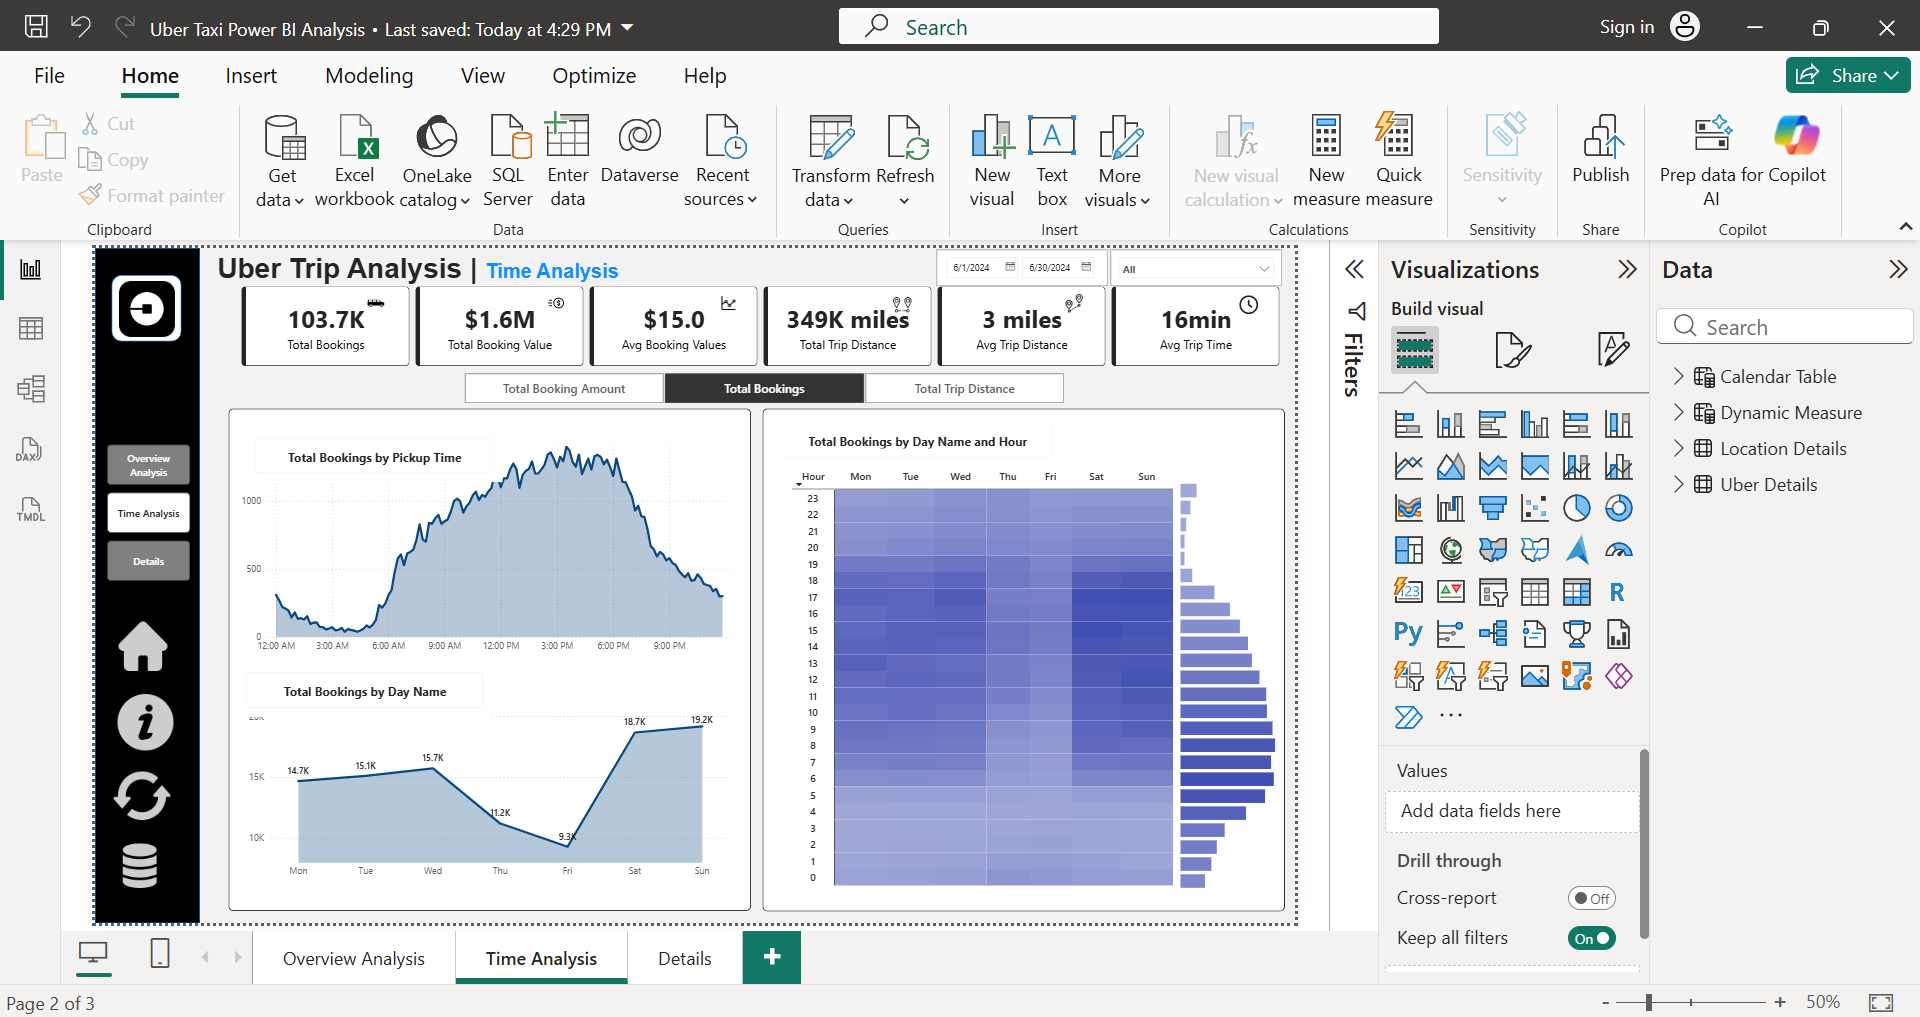

The dashboard page shown, as its layout file describes it:
{"tool":"powerbi","page":{"name":"Time Analysis","canvas":[1600,900],"ordinal":1},"visuals":[{"type":"shape","box":[0,0,140,900.3],"z":0},{"type":"textbox","box":[159,0,767.3,68.8],"z":1000},{"type":"cardVisual","fields":{"Data":["Uber Details.Total Bookings","Uber Details.Total Booking Amount","Uber Details.Avg Booking Amount","Uber Details.Total Trip Distance","Uber Details.Avg Trip Distance","Uber Details.Avg Trip Time"]},"box":[178.4,34.3,1422,140.7],"z":2000},{"type":"image","box":[603.8,56.6,21.4,35.2],"z":3000},{"type":"image","box":[1063.9,58.1,24.5,35.2],"z":4000},{"type":"image","box":[1294.7,56.6,24.5,35.2],"z":5000},{"type":"image","box":[1525.5,58.1,24.5,35.2],"z":6000},{"type":"image","box":[834.6,56.6,21.4,35.2],"z":7000},{"type":"shape","box":[178.3,213.3,696.7,670],"z":8000},{"type":"image","box":[362.3,56.6,24.5,35.2],"z":9000},{"type":"slicer","fields":{"Values":["Dynamic Measure.Dynamic Measure"]},"box":[465,160,850,53.3],"z":10000},{"type":"slicer","fields":{"Values":["Calendar Table.Date"]},"box":[1121.7,1.7,228.3,48.3],"z":11000},{"type":"slicer","fields":{"Values":["Location Details.City"]},"box":[1353.3,1,228.3,48.3],"z":12000},{"type":"areaChart","fields":{"Category":["Uber Details.Pickup Time (HH MM SS) (bins)"],"Y":["Uber Details.Total Bookings"]},"box":[190,250,673.3,298.3],"z":13000},{"type":"cardVisual","fields":{"Data":["Uber Details.Title for by Pickup Time"]},"box":[189.5,226.2,348.5,76.4],"z":14000},{"type":"areaChart","fields":{"Category":["Calender Table.Day Name"],"Y":["Uber Details.Total Bookings"]},"box":[200.7,610.6,650.1,238.4],"z":15000},{"type":"cardVisual","fields":{"Data":["Uber Details.Title for a Day Name"]},"box":[188.7,548.9,346.5,77.2],"z":16000},{"type":"shape","box":[890.2,214.4,696.4,670.7],"z":17000},{"type":"pivotTable","fields":{"Columns":["Calender Table.Day Name"],"Rows":["Uber Details.Pickup Hour"],"Values":["Uber Details.Total Bookings"]},"box":[923.2,287.4,519.7,577.8],"z":18000},{"type":"barChart","fields":{"Category":["Uber Details.Pickup Hour"],"Y":["Uber Details.Total Bookings"]},"box":[1442.9,305.7,137.6,570.1],"z":19000},{"type":"cardVisual","fields":{"Data":["Uber Details.Title for by Pickup Time"]},"box":[199.5,236.2,348.5,76.4],"z":20000},{"type":"cardVisual","fields":{"Data":["Uber Details.Title by Hour and Day"]},"box":[901.8,214,392.8,76.4],"z":21000},{"type":"pageNavigator","box":[15.3,261.4,111.6,185],"z":22000},{"type":"group","id":"g1","title":"Group 1","box":[22.9,35.2,93.2,88.7],"z":23000},{"type":"image","box":[22.9,498.3,84.1,65.7],"z":24000},{"type":"image","box":[29,588.5,74.9,88.7],"z":25000},{"type":"image","box":[15.3,692.4,93.2,76.4],"z":26000},{"type":"image","box":[16.8,794.8,87.1,59.6],"z":27000},{"type":"shape","box":[22.9,35.2,93.2,88.7],"z":33000,"group":"g1"},{"type":"image","box":[32.1,42.8,74.9,74.9],"z":34000,"group":"g1"}]}

Visuals, with their boxes on the page's 1600x900 design canvas (x1, y1, x2, y2). These are canvas units, not pixel positions in the 1920x1017 screenshot, which may show the page scaled, cropped or inside an application window:
shape: pyautogui.locateOnScreen(0, 0, 140, 900)
textbox: pyautogui.locateOnScreen(159, 0, 926, 69)
cardVisual - Uber Details.Total Bookings x Uber Details.Total Booking Amount: pyautogui.locateOnScreen(178, 34, 1600, 175)
image: pyautogui.locateOnScreen(604, 57, 625, 92)
image: pyautogui.locateOnScreen(1064, 58, 1088, 93)
image: pyautogui.locateOnScreen(1295, 57, 1319, 92)
image: pyautogui.locateOnScreen(1526, 58, 1550, 93)
image: pyautogui.locateOnScreen(835, 57, 856, 92)
shape: pyautogui.locateOnScreen(178, 213, 875, 883)
image: pyautogui.locateOnScreen(362, 57, 387, 92)
slicer - Dynamic Measure.Dynamic Measure: pyautogui.locateOnScreen(465, 160, 1315, 213)
slicer - Calendar Table.Date: pyautogui.locateOnScreen(1122, 2, 1350, 50)
slicer - Location Details.City: pyautogui.locateOnScreen(1353, 1, 1582, 49)
areaChart - Uber Details.Pickup Time (HH MM SS) (bins) x Uber Details.Total Bookings: pyautogui.locateOnScreen(190, 250, 863, 548)
cardVisual - Uber Details.Title for by Pickup Time: pyautogui.locateOnScreen(190, 226, 538, 303)
areaChart - Calender Table.Day Name x Uber Details.Total Bookings: pyautogui.locateOnScreen(201, 611, 851, 849)
cardVisual - Uber Details.Title for a Day Name: pyautogui.locateOnScreen(189, 549, 535, 626)
shape: pyautogui.locateOnScreen(890, 214, 1587, 885)
pivotTable - Calender Table.Day Name x Uber Details.Pickup Hour: pyautogui.locateOnScreen(923, 287, 1443, 865)
barChart - Uber Details.Pickup Hour x Uber Details.Total Bookings: pyautogui.locateOnScreen(1443, 306, 1580, 876)
cardVisual - Uber Details.Title for by Pickup Time: pyautogui.locateOnScreen(200, 236, 548, 313)
cardVisual - Uber Details.Title by Hour and Day: pyautogui.locateOnScreen(902, 214, 1295, 290)
pageNavigator: pyautogui.locateOnScreen(15, 261, 127, 446)
"Group 1" group: pyautogui.locateOnScreen(23, 35, 116, 124)
image: pyautogui.locateOnScreen(23, 498, 107, 564)
image: pyautogui.locateOnScreen(29, 588, 104, 677)
image: pyautogui.locateOnScreen(15, 692, 108, 769)
image: pyautogui.locateOnScreen(17, 795, 104, 854)
shape: pyautogui.locateOnScreen(23, 35, 116, 124)
image: pyautogui.locateOnScreen(32, 43, 107, 118)
